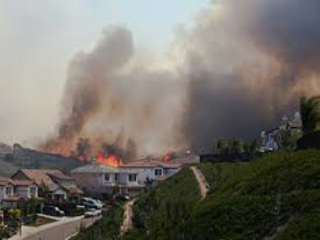fire: (93, 151, 132, 169)
smoke: (171, 16, 303, 149), (45, 16, 154, 150)
